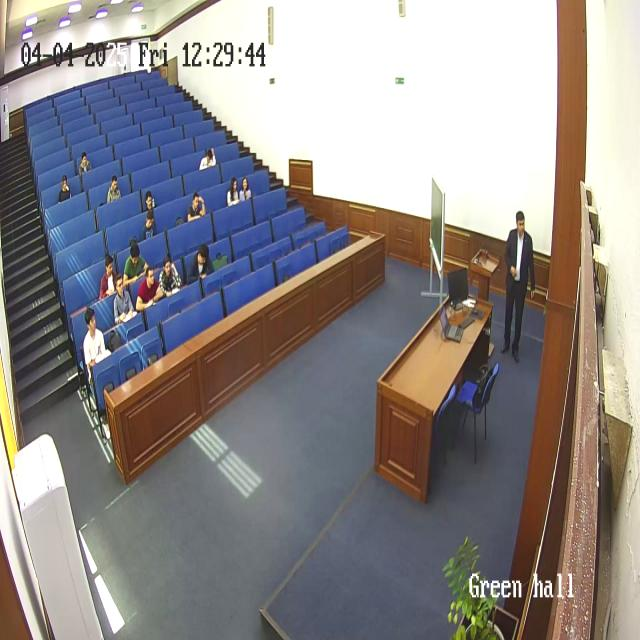person: (502, 211, 536, 360), (82, 306, 116, 436), (112, 273, 136, 328), (135, 266, 163, 312), (157, 255, 183, 299), (187, 242, 213, 284), (122, 242, 146, 287), (98, 255, 119, 301), (187, 191, 206, 222), (141, 208, 158, 241), (226, 176, 242, 207), (106, 175, 122, 204), (57, 175, 73, 204), (199, 146, 217, 170), (238, 175, 252, 202), (78, 150, 92, 177)
